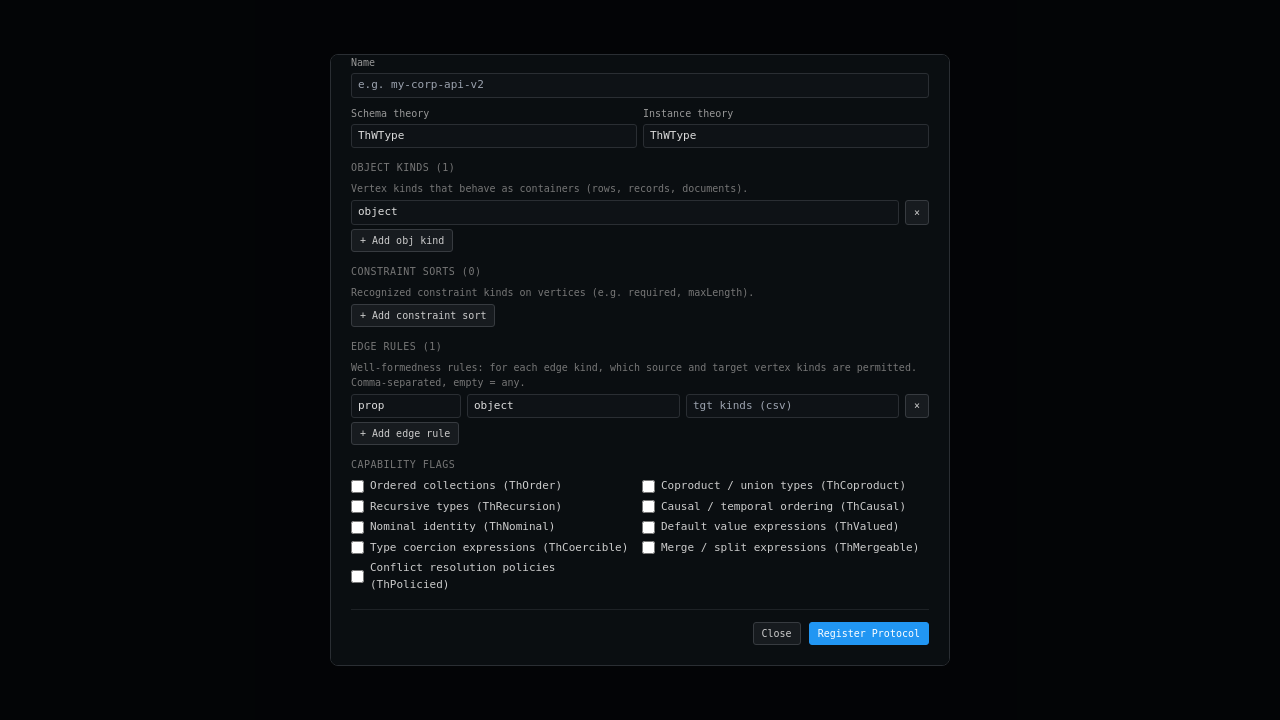
it: ProtocolEditor › name input is required — Register button shows error if empty
(page scrolled)
What coordinates should you click on to do the following:
click the button "Register Protocol"
I would click on:
 (869, 634)
Its box is [809, 622, 929, 645].
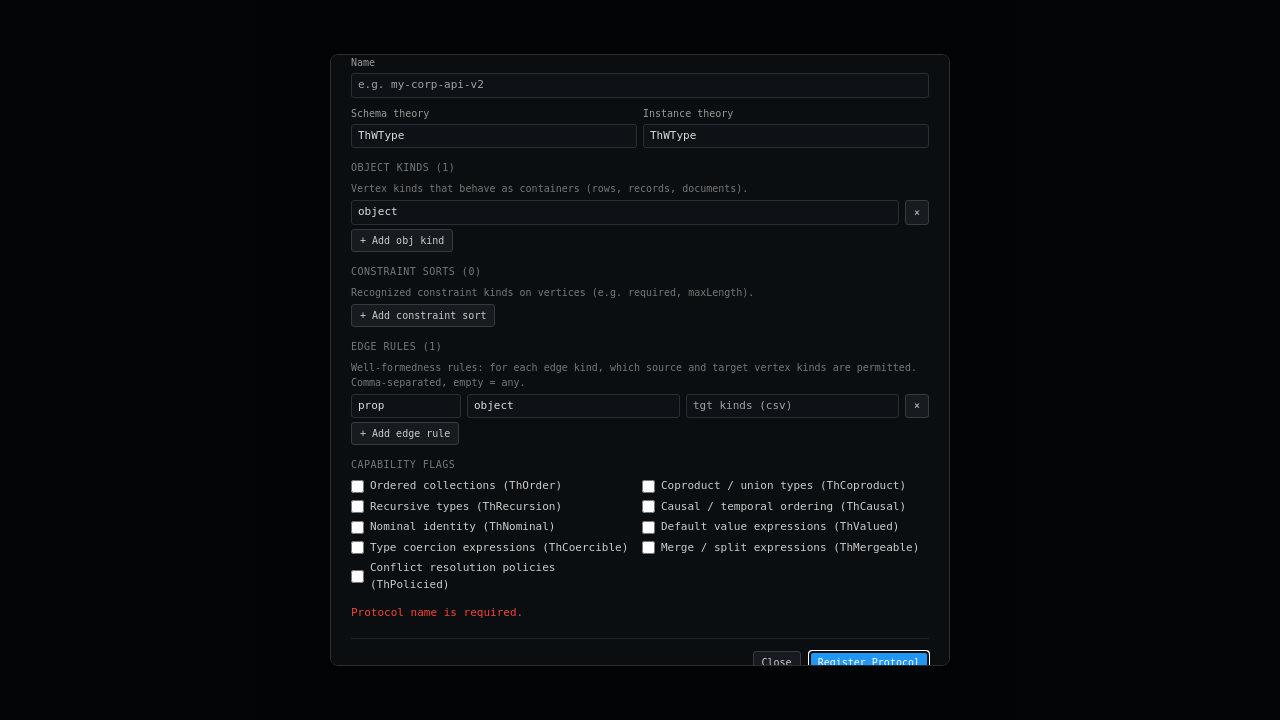
Now the text "Protocol name is required." is shown, box [351, 606, 523, 619]
